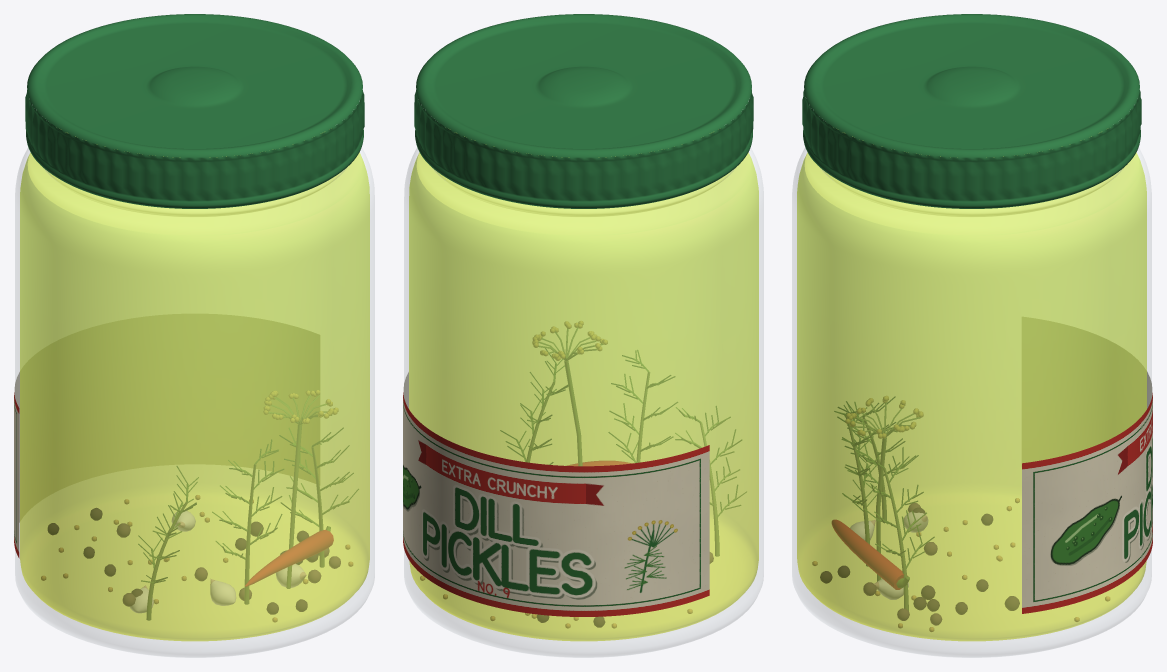
File: pickles.glb
The picture shows the model from 3 angles, left to right: view 1: azimuth 30°, elevation 25°; view 2: azimuth 150°, elevation 25°; view 3: azimuth 270°, elevation 25°; orthographic projection.
Parts seen in each view (by area): view 1: pickles; view 2: pickles; view 3: pickles.
Part boxes in pixels (<box>): pickles: <box>14,14,374,657</box>; pickles: <box>403,14,763,657</box>; pickles: <box>792,14,1152,657</box>.
Bounding box in the file's own units: 0.66 × 1.03 × 0.6618.
6 materials, 3 textured.
